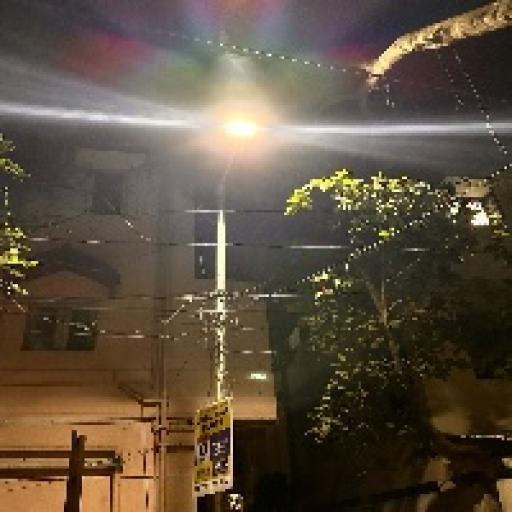Working: (204, 108, 271, 152)
